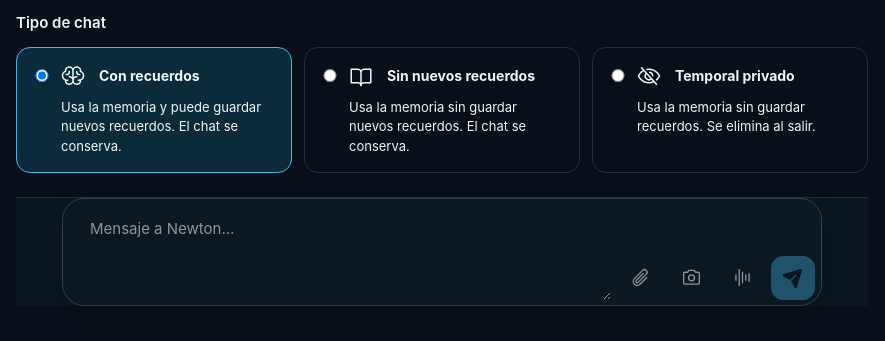
Test: selects the policy before creating and preserves the first message on failure
The image size is (885, 341).
Step 1. Click the radio button labelled "Temporal privado" → (618, 76), box [609, 69, 627, 82]
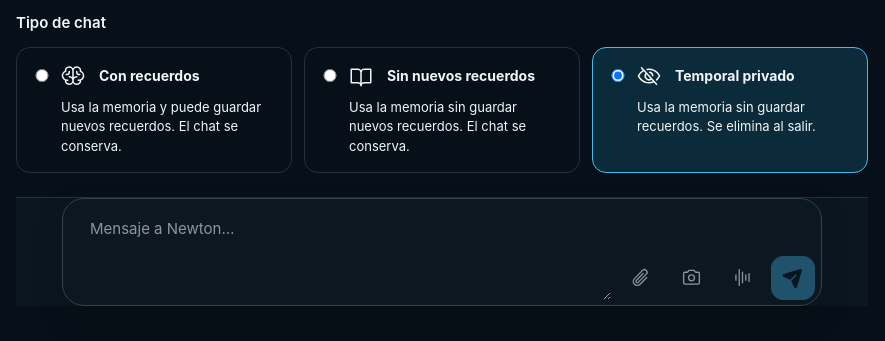
Step 2. Type "private canary" into the text box → (344, 252), box [76, 204, 611, 300]
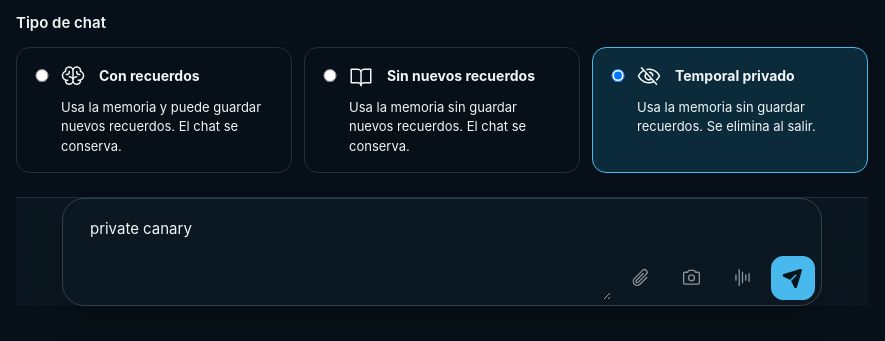
Step 3. Click the button named "Enviar mensaje" → (793, 278), box [771, 256, 815, 300]
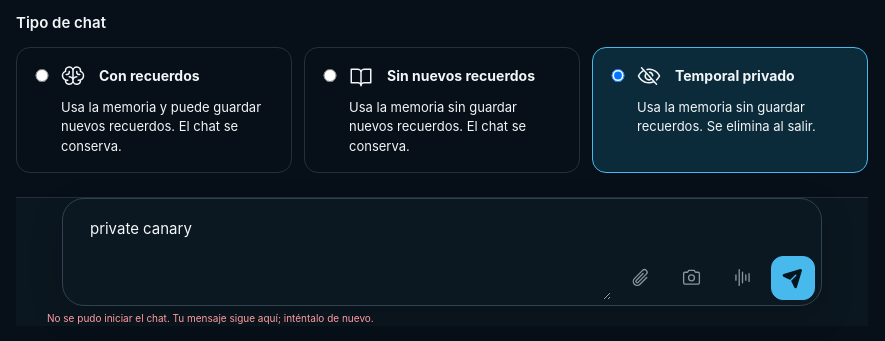
Check: the message "No se pudo iniciar el chat. Tu mensaje sigue aquí; inténtalo de nuevo." is shown, box [47, 312, 374, 324]
